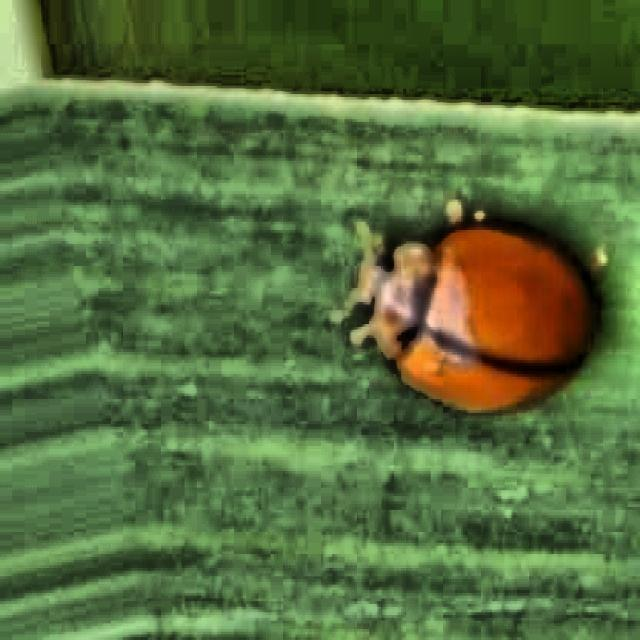Ladybug: (327, 166, 619, 447)
